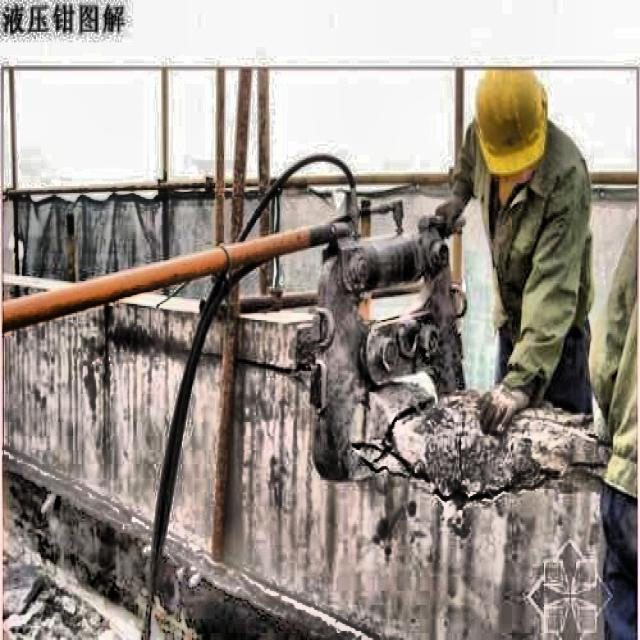helmet: (465, 67, 553, 193)
